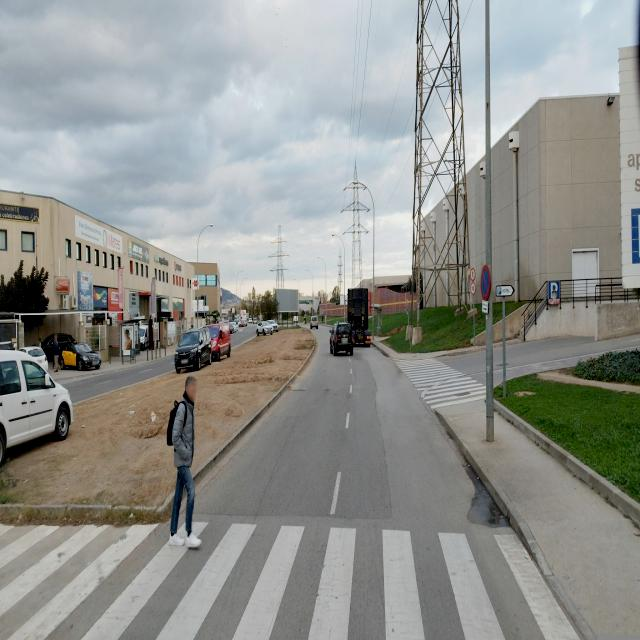car: (0, 350, 73, 469), (42, 334, 101, 372), (174, 328, 212, 373), (206, 324, 232, 362), (329, 321, 354, 357), (20, 344, 48, 372), (255, 320, 266, 336), (263, 320, 274, 335), (229, 318, 238, 333), (309, 318, 319, 330), (270, 319, 278, 333)
